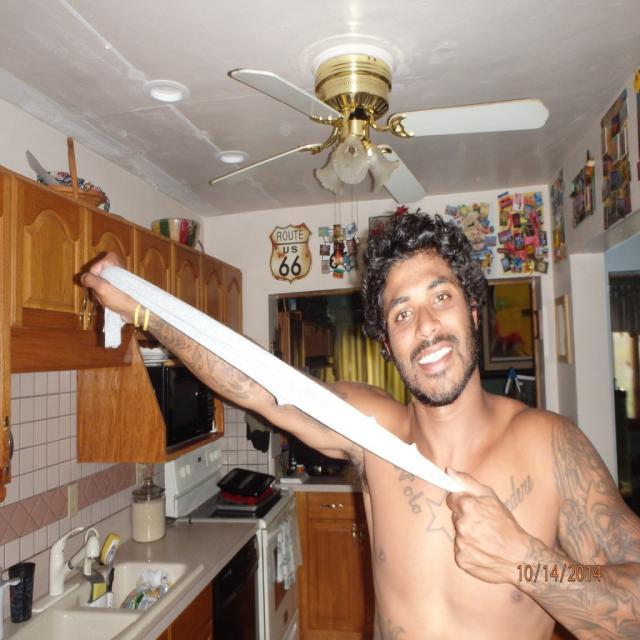fan_off: (209, 64, 548, 200)
